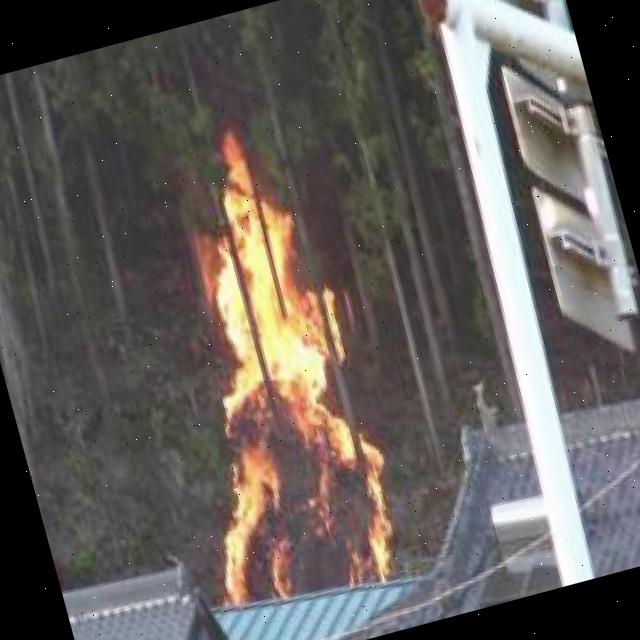fire: (110, 112, 420, 611)
